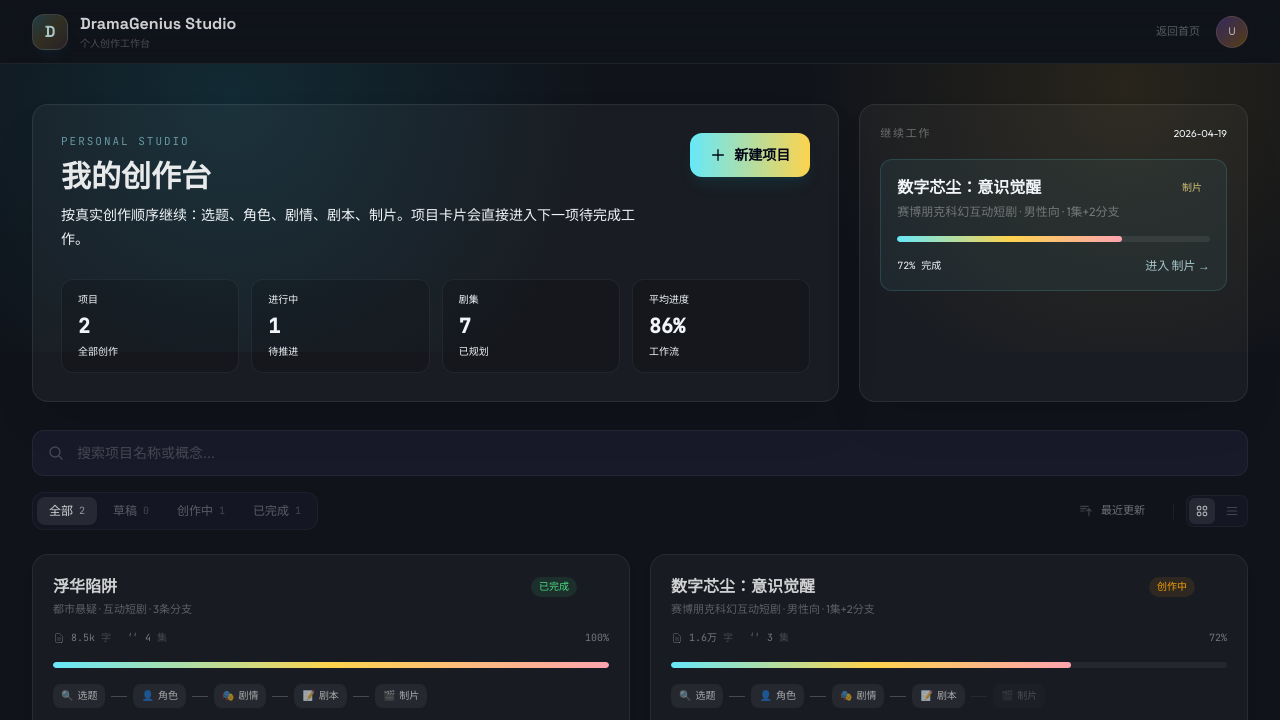
ProjectsPage › 交互测试 › opens create modal when clicking new project button
Click the button "新建项目" at (750, 155), box [690,133,810,177]
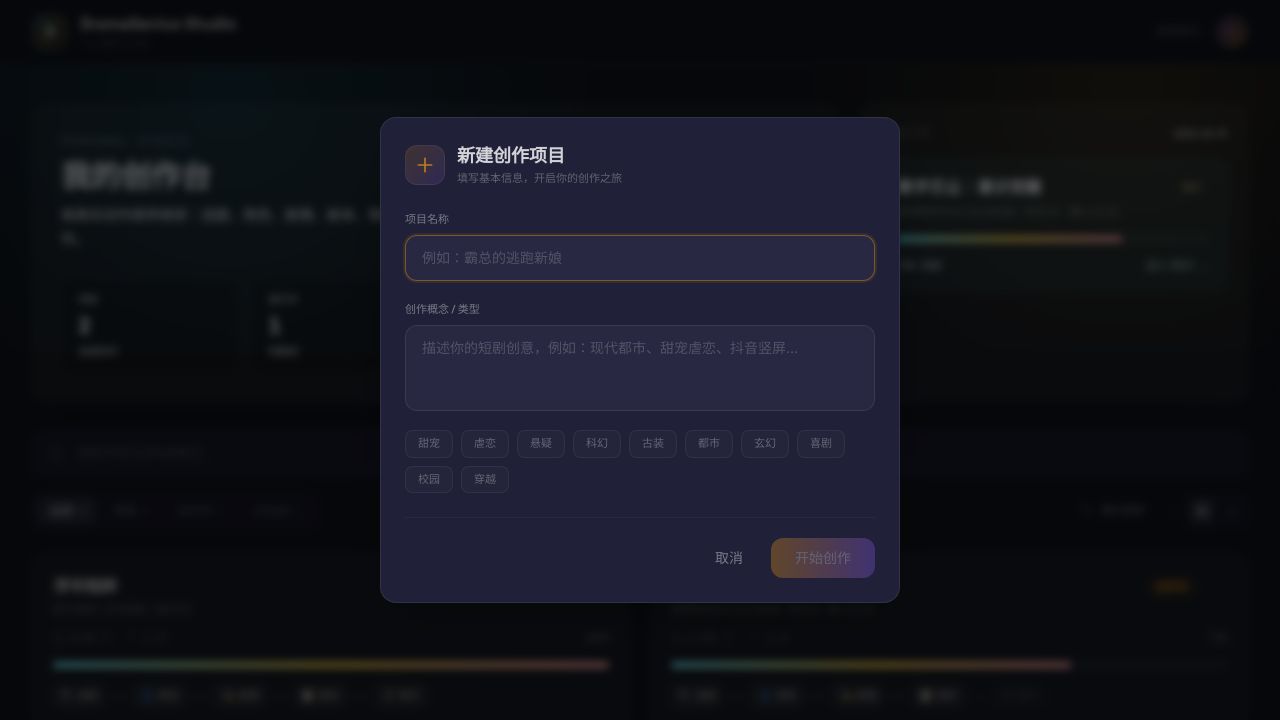
Result: the field with placeholder "例如：霸总的逃跑新娘" is shown at [405,235,875,281]
